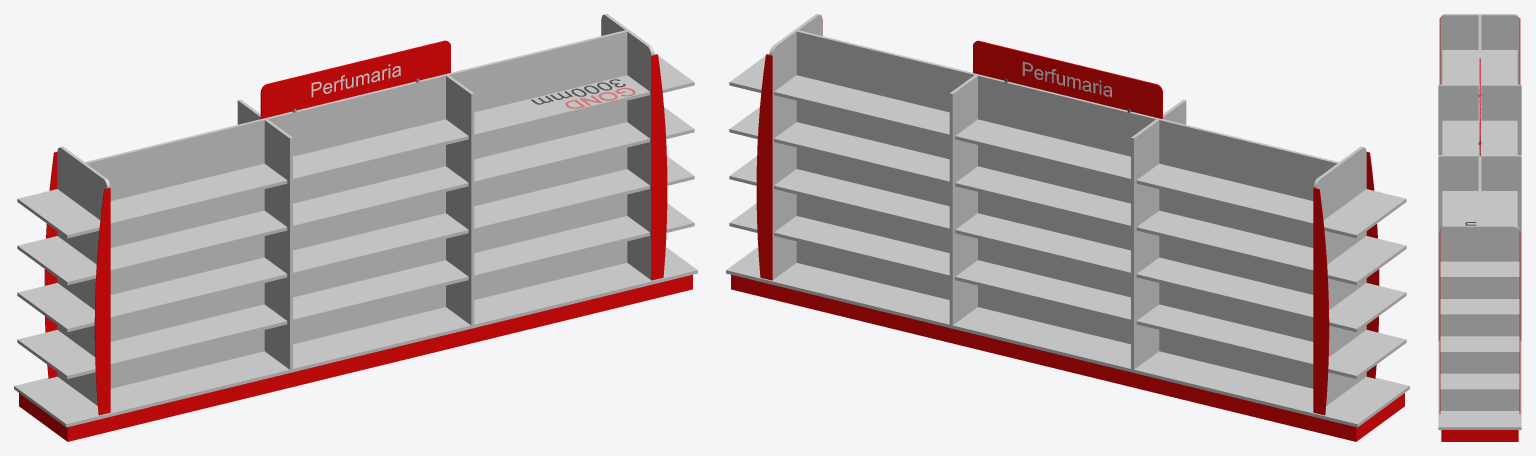
File: Gôndola 3,00.glb
The picture shows the model from 3 angles, left to right: view 1: azimuth 30°, elevation 25°; view 2: azimuth 150°, elevation 25°; view 3: azimuth 270°, elevation 25°; orthographic projection. The views are drawn at different scales.
Visible parts, largest first — view 1: Geom3D_ (×28), Geom3D (×6); view 2: Geom3D_ (×28), Geom3D (×6); view 3: Geom3D_ (×20), Geom3D (×5).
Part boxes in pixels (x1,y1,x2,y2): Geom3D_ (×28): (14,14,697,427); Geom3D (×6): (19,54,692,441); Geom3D_ (×28): (726,14,1409,427); Geom3D (×6): (731,54,1404,441); Geom3D_ (×20): (1438,14,1521,429); Geom3D (×5): (1439,18,1520,441).
Size of the model in its own units: 3 by 1.3 by 0.43.
6 materials, 1 textured.
